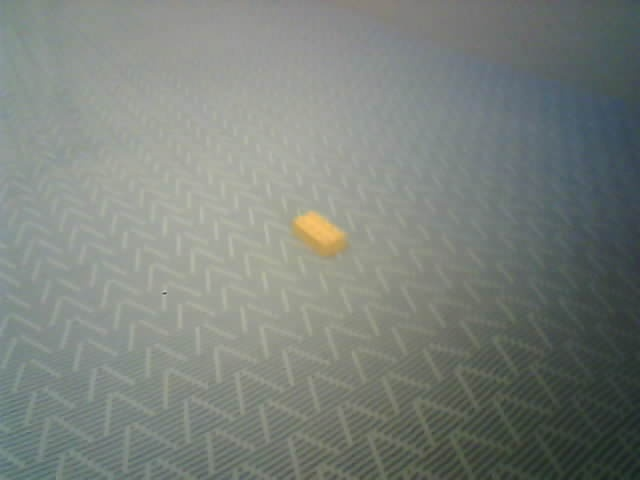lego: (291, 209, 349, 258)
